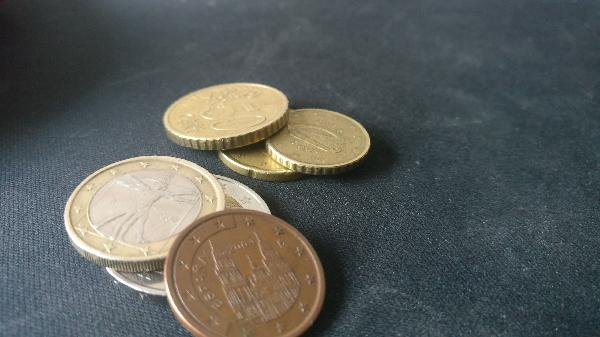Fifty Cent: (164, 80, 292, 151)
Five Cent: (161, 208, 328, 337)
One Euro: (64, 156, 226, 271)
Ten Cent: (266, 99, 372, 175)
